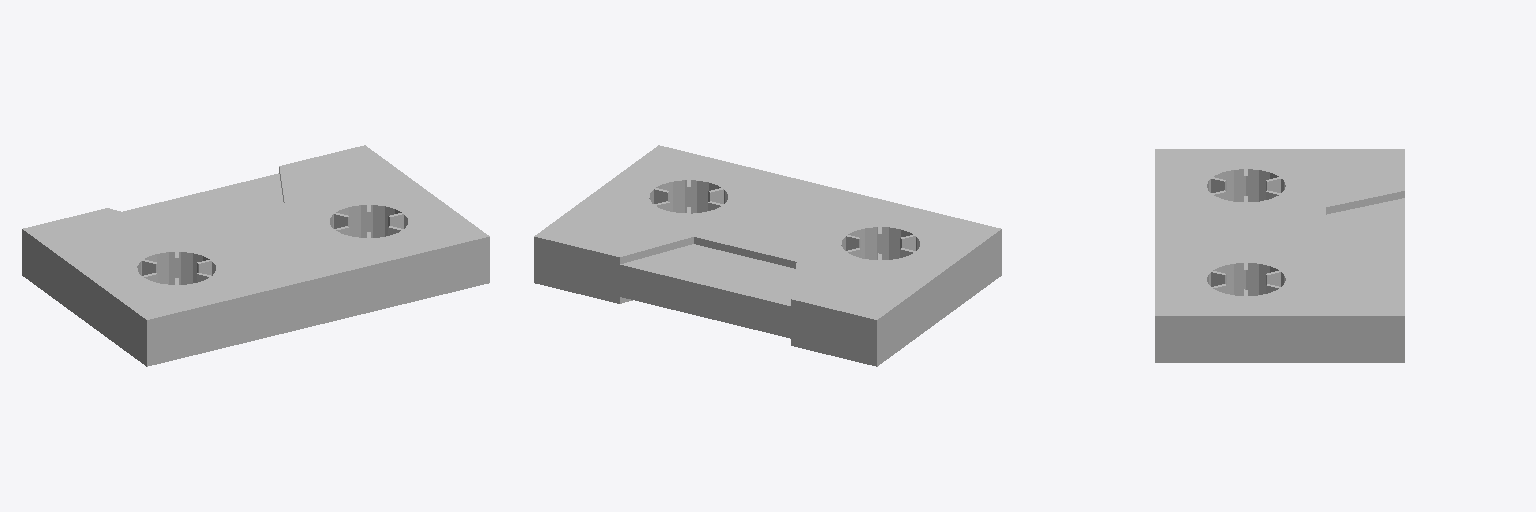
The model's file is Tape.obj.
3 renders of one model, left to right at view 1: azimuth 30°, elevation 25°; view 2: azimuth 150°, elevation 25°; view 3: azimuth 270°, elevation 25°, orthographic.
Parts seen in each view (by area): view 1: obj_0; view 2: obj_0; view 3: obj_0.
Part boxes in pixels (left/top/right/bottom): obj_0: left=22, top=145, right=489, bottom=366; obj_0: left=534, top=145, right=1001, bottom=366; obj_0: left=1155, top=149, right=1404, bottom=362.
Size of the model in its own units: 100 by 13 by 63.